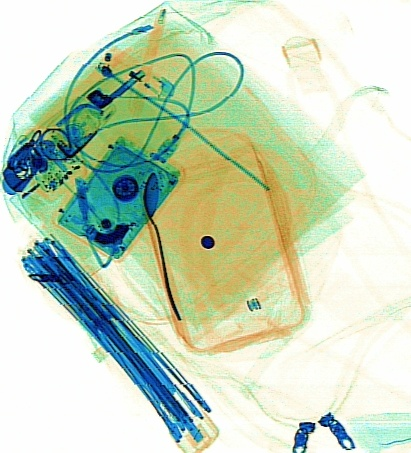lighter: (102, 42, 176, 107)
